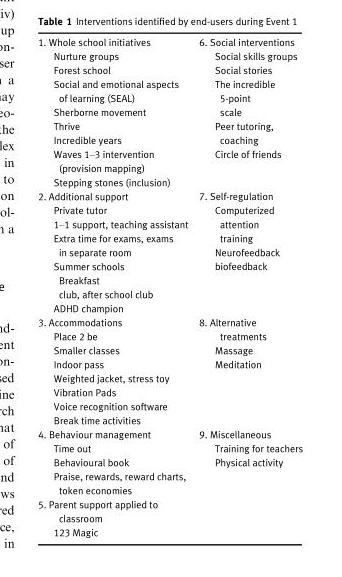table: (37, 37, 302, 537)
table column: (37, 37, 192, 537), (192, 37, 302, 537)
table row: (37, 37, 302, 189), (37, 189, 302, 315), (37, 315, 302, 427), (37, 427, 302, 497), (37, 497, 302, 537)
